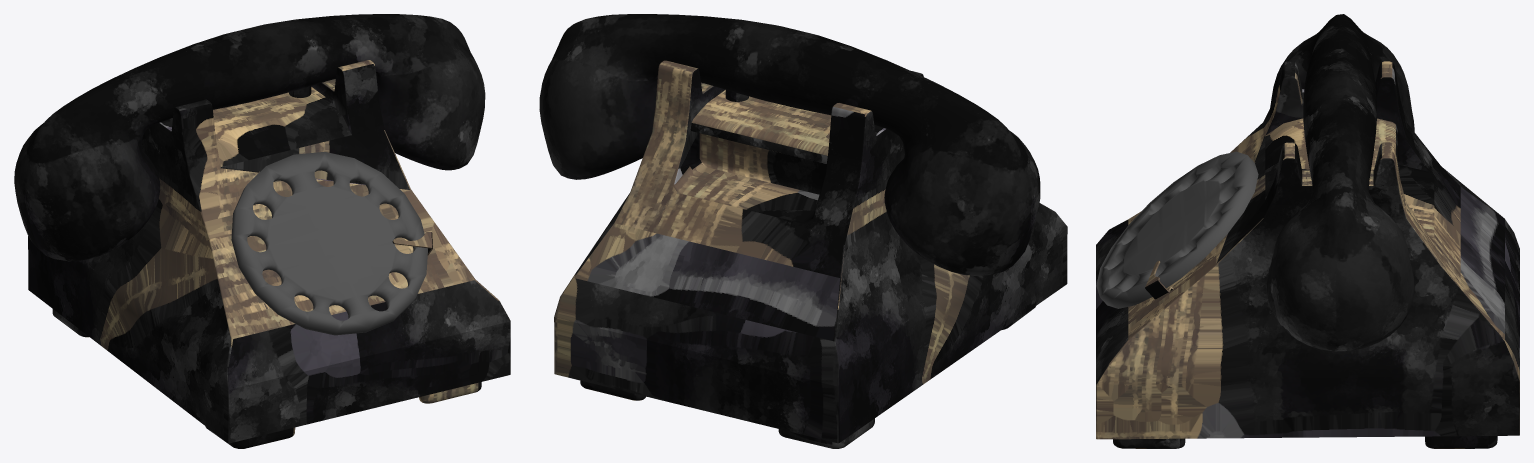
Rendered from TelefonoRojo.fbx.
The picture shows the model from 3 angles, left to right: view 1: azimuth 30°, elevation 25°; view 2: azimuth 150°, elevation 25°; view 3: azimuth 270°, elevation 25°; orthographic projection. The views are drawn at different scales.
Parts seen in each view (by area): view 1: Base, Telefono; view 2: Base, Telefono; view 3: Base, Telefono.
Part boxes in pixels (x1,y1,x2,y2): Base: [28, 60, 510, 448]; Telefono: [14, 14, 485, 261]; Base: [554, 60, 1067, 448]; Telefono: [539, 14, 1040, 275]; Base: [1096, 61, 1519, 448]; Telefono: [1267, 14, 1414, 351].
Size of the model in its own units: 39.23 by 25.67 by 31.27.
Materials: 2 (1 with a texture image).
